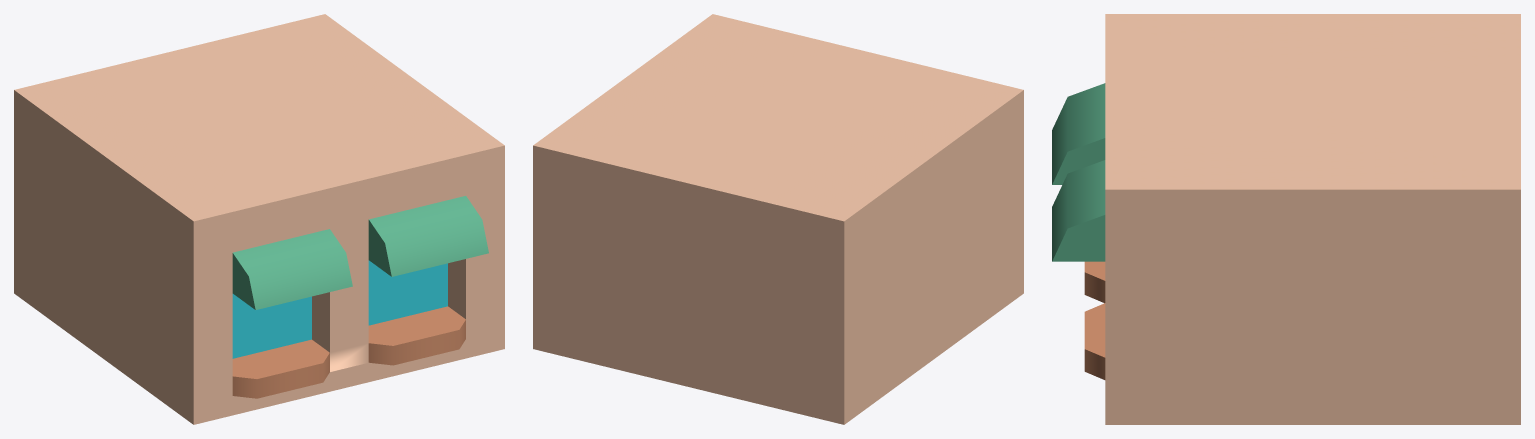
The model's file is BuildingWindowAwnings.fbx.
3 renders of one model, left to right at view 1: azimuth 30°, elevation 25°; view 2: azimuth 150°, elevation 25°; view 3: azimuth 270°, elevation 25°, orthographic. The views are drawn at different scales.
Parts seen in each view (by area): view 1: BuildingWindowsAwnings; view 2: BuildingWindowsAwnings; view 3: BuildingWindowsAwnings.
Boxes of the visible parts, bbox=[...] form: BuildingWindowsAwnings: bbox=[14, 14, 504, 424]; BuildingWindowsAwnings: bbox=[533, 14, 1023, 424]; BuildingWindowsAwnings: bbox=[1052, 14, 1520, 424].
Size of the model in its own units: 300 by 188 by 338.
